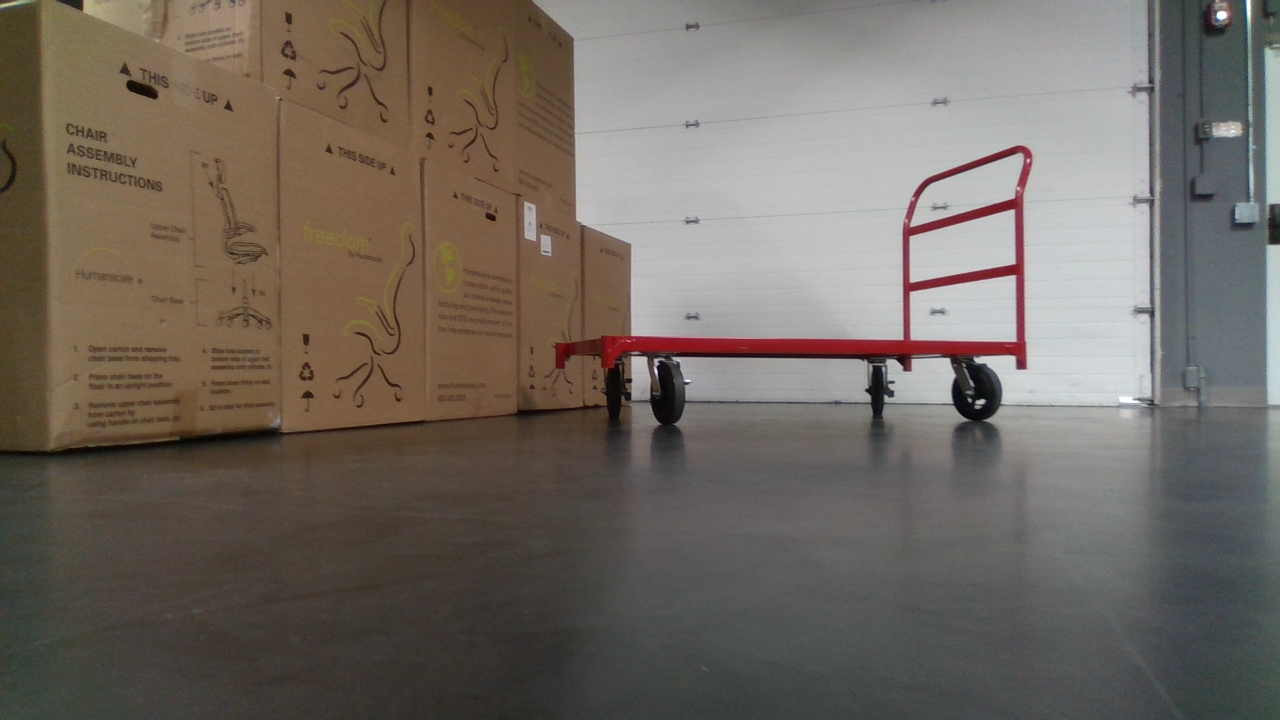Dolly: (552, 142, 1035, 429)
Wheel: (948, 359, 1005, 422), (648, 360, 690, 426), (602, 361, 634, 425), (862, 362, 895, 422)
